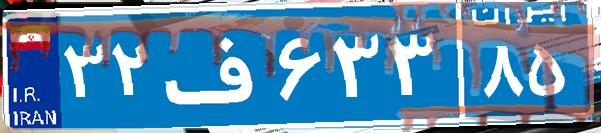2: (110, 28, 158, 105)
3: (385, 28, 445, 110), (330, 28, 385, 110), (57, 26, 110, 107)
5: (525, 38, 570, 115)
6: (273, 28, 330, 110)
8: (475, 38, 525, 113)
ف: (158, 15, 273, 115)
